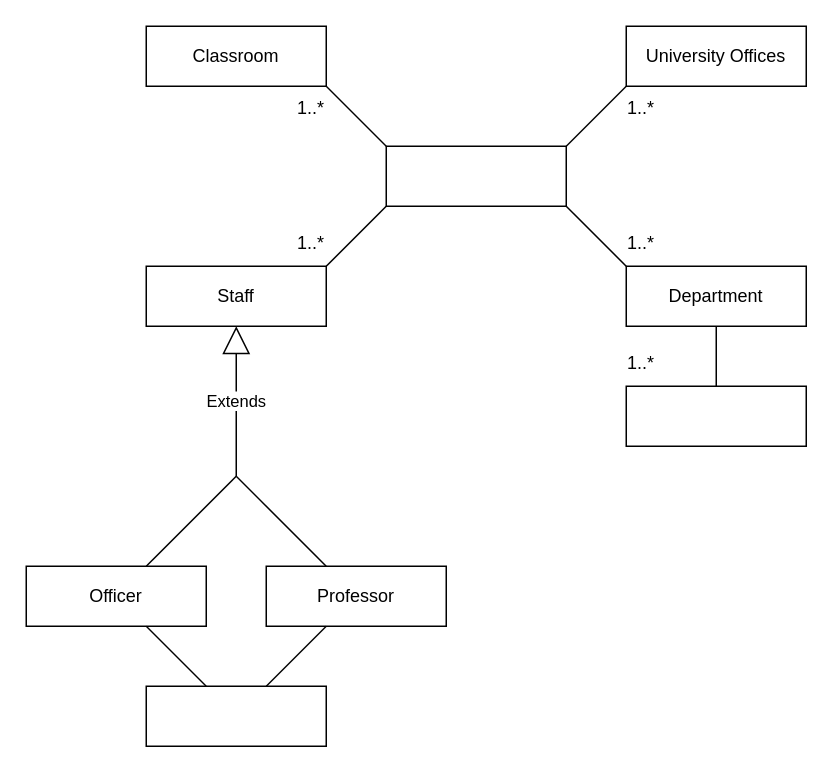
The diagram is 833 pixels wide and 773 high, and some of its shapes have lost their labels. The box of each missing label's shape, as (x1, y1, x2, y2) in pixels:
Department Offices: (625, 385, 806, 446)
Staff Office: (145, 685, 326, 746)
University: (385, 145, 566, 206)
